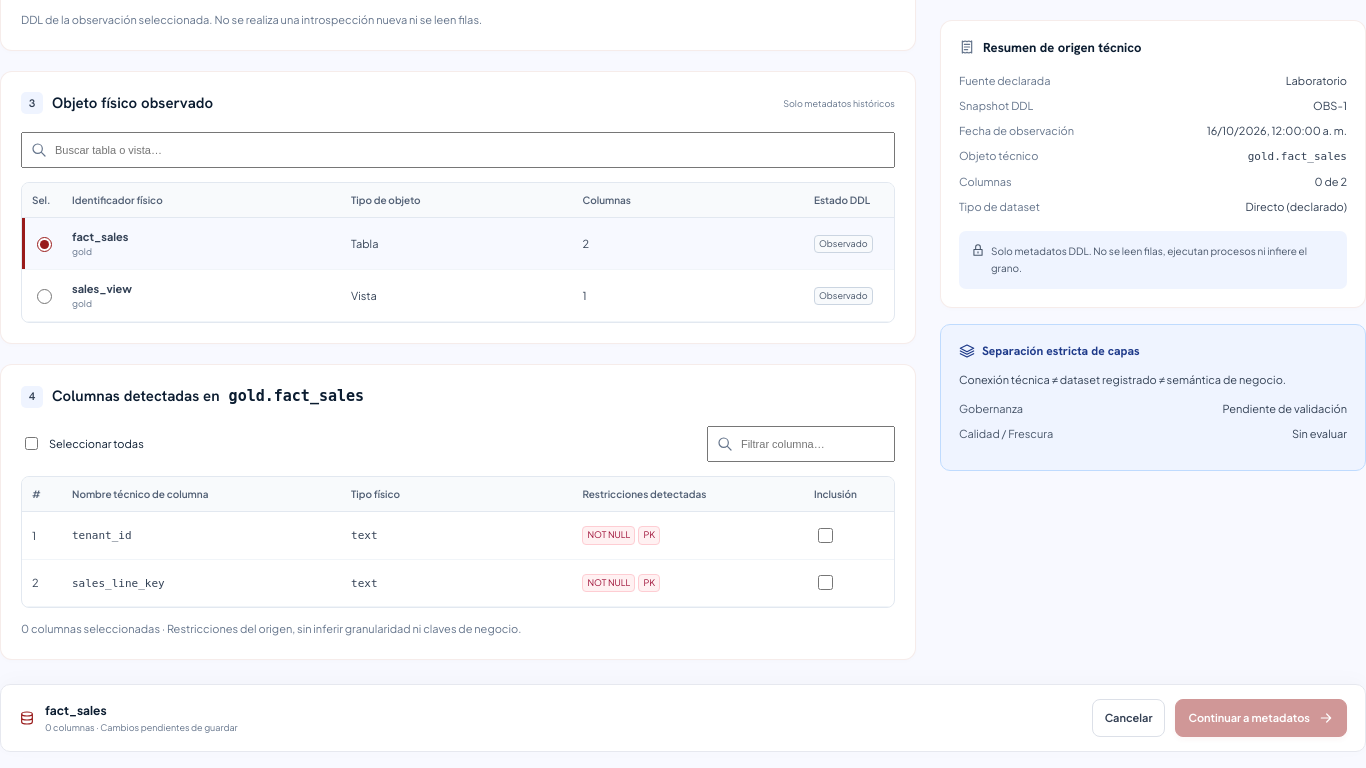
Test: clears selection when origin changes
(page scrolled)
Click the checkbox named "Seleccionar columna tenant_id": (826, 535) [818,528,833,543]
(page scrolled)
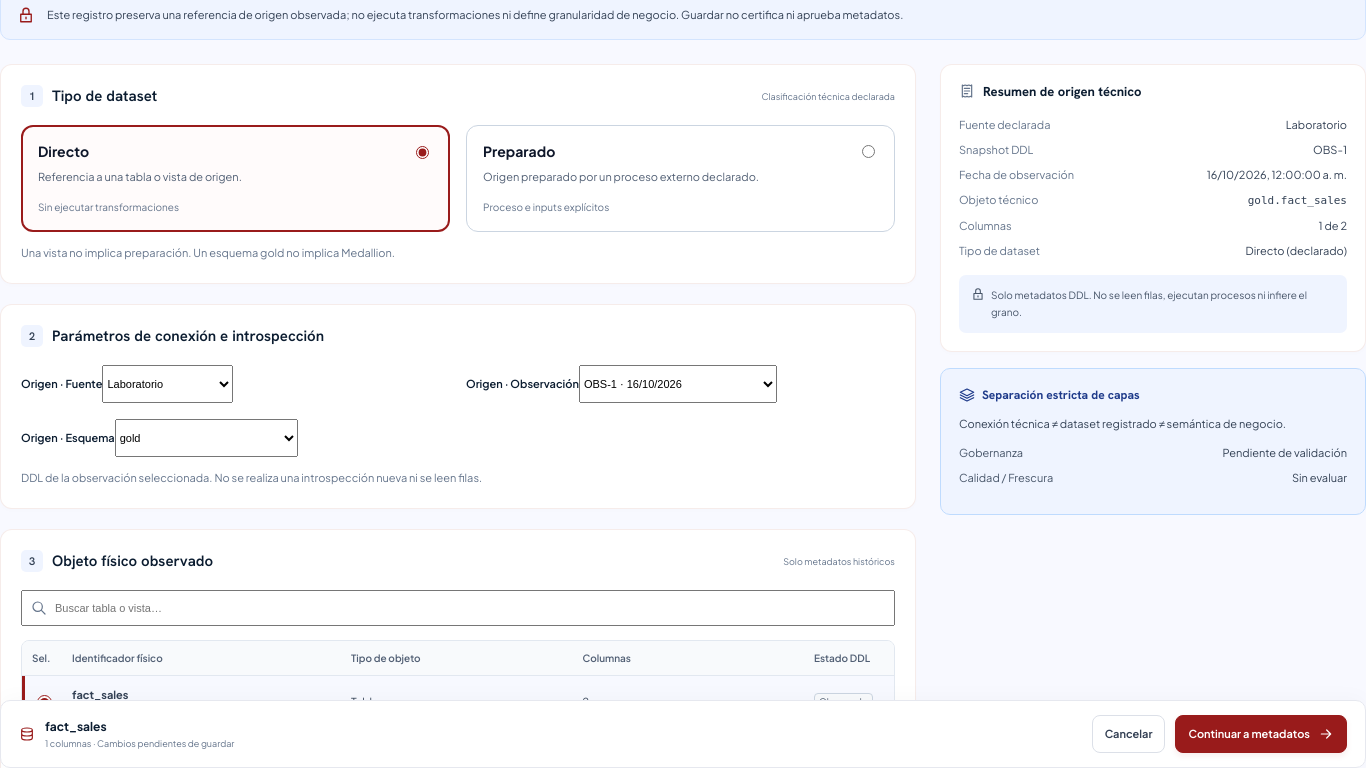
Now the button "Continuar a metadatos" is enabled, box [1176,715,1347,753]
Select "Otra fuente" in the dropdown labelled "Origen · Fuente": (168, 384) [102,365,234,403]
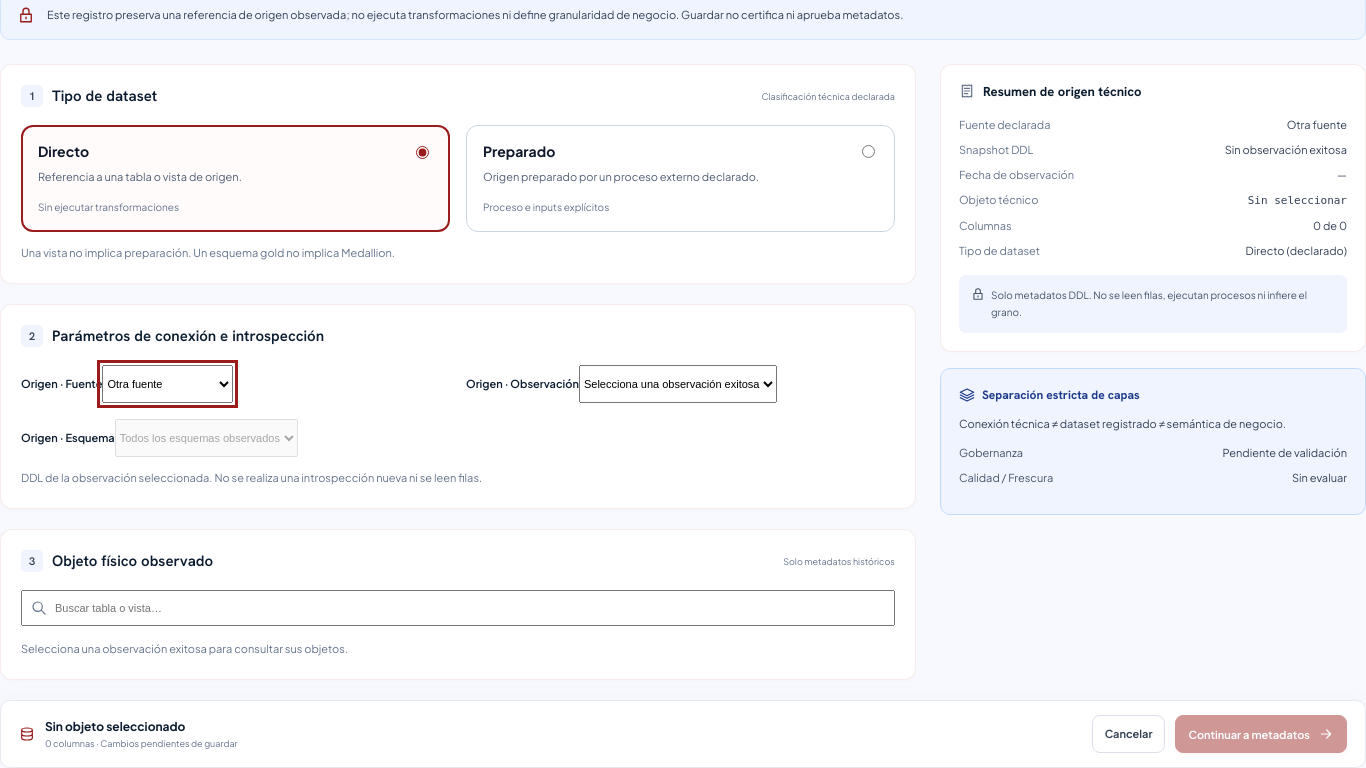
Now the button "Continuar a metadatos" is disabled, box [1176,715,1347,753]
